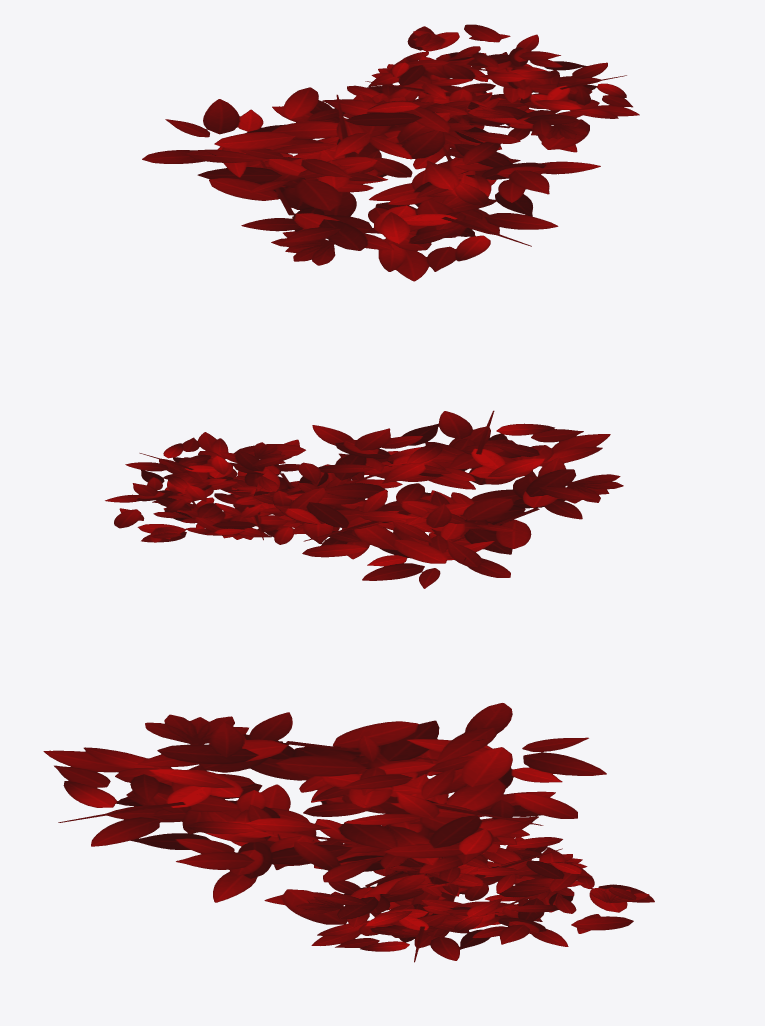
File: hojarasca.glb
3 views of the same model, one above another, from view 1: azimuth 30°, elevation 25°; view 2: azimuth 150°, elevation 25°; view 3: azimuth 270°, elevation 25° (orthographic). The views are drawn at different scales.
Parts seen in each view (by area): view 1: hojarasca; view 2: hojarasca; view 3: hojarasca.
Part boxes in pixels (x1,y1,x2,y2): hojarasca: (142, 24, 639, 281); hojarasca: (105, 410, 623, 588); hojarasca: (43, 703, 654, 962).
Size of the model in its own units: 2.14 by 0.0276 by 1.94.
1 material, 1 textured.
